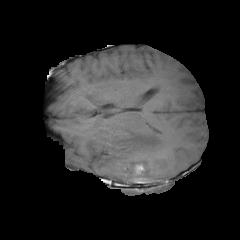glioma: (94, 119, 181, 179)
